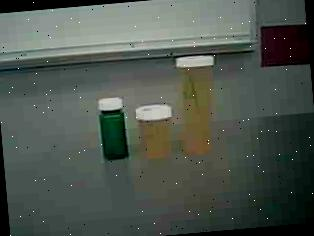Bottle A: (171, 48, 231, 162)
Bottle B: (133, 100, 177, 162)
Bottle C: (92, 90, 134, 164)
